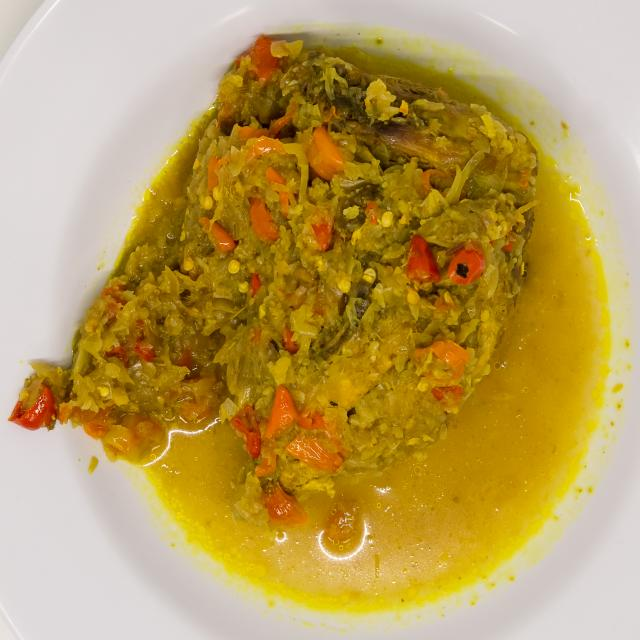Ayam-Betutu: (40, 19, 549, 522)
